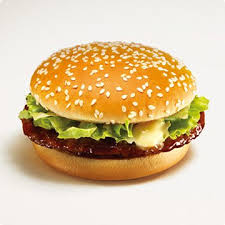hamburger: (13, 35, 211, 187)
